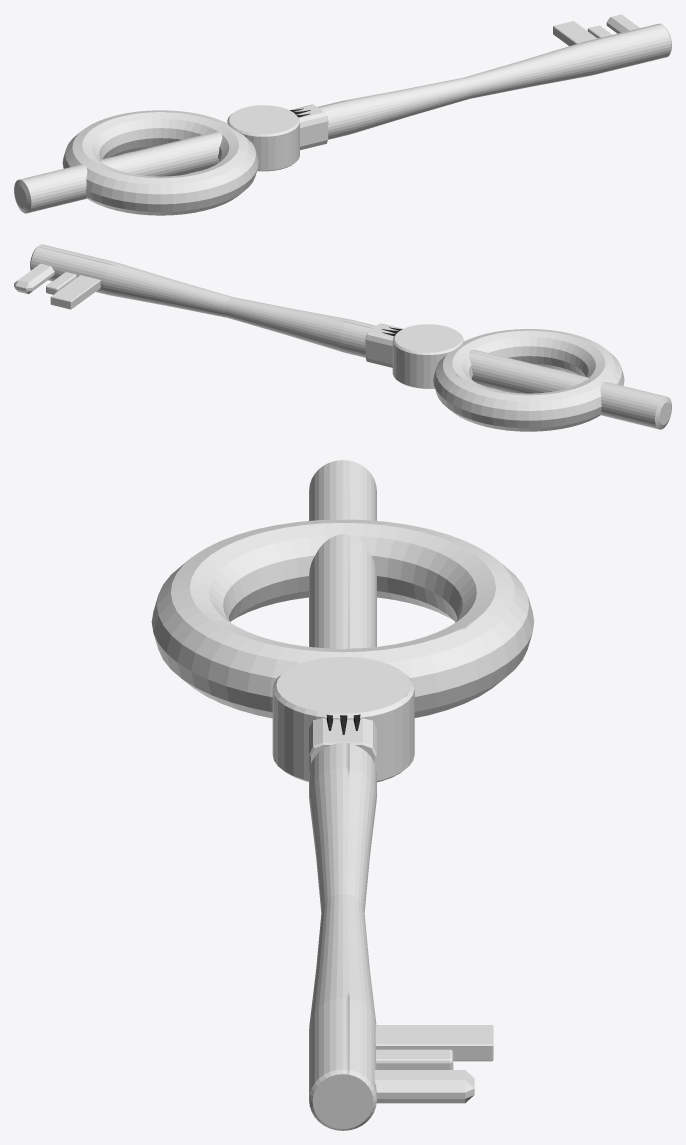
File: tombstone_key.obj
3 renders of one model, top to bottom at view 1: azimuth 30°, elevation 25°; view 2: azimuth 150°, elevation 25°; view 3: azimuth 270°, elevation 25°, orthographic. The views are drawn at different scales.
Parts seen in each view (by area): view 1: Cylinder, Torus, Cylinder.001, Cube_Cube.001, Cube.003_Cube.004, Cube.001_Cube.002; view 2: Cylinder, Torus, Cylinder.001, Cube_Cube.001, Cube.003_Cube.004, Cube.001_Cube.002, Cube.002_Cube.003; view 3: Torus, Cylinder, Cylinder.001, Cube.003_Cube.004, Cube.001_Cube.002, Cube_Cube.001, Cube.002_Cube.003.
Boxes of the visible parts, box(x1,y1,x2,y2) form: Cylinder: box(14, 23, 671, 213); Torus: box(62, 110, 258, 215); Cylinder.001: box(227, 105, 299, 171); Cube_Cube.001: box(291, 104, 328, 150); Cube.003_Cube.004: box(553, 21, 597, 45); Cube.001_Cube.002: box(606, 14, 639, 33); Cylinder: box(30, 244, 671, 429); Torus: box(433, 329, 624, 431); Cylinder.001: box(392, 324, 463, 388); Cube_Cube.001: box(365, 323, 402, 367); Cube.003_Cube.004: box(50, 275, 100, 309); Cube.001_Cube.002: box(14, 263, 54, 294); Cube.002_Cube.003: box(46, 272, 76, 294); Torus: box(151, 519, 534, 718); Cylinder: box(309, 460, 376, 1130); Cylinder.001: box(272, 657, 414, 782); Cube.003_Cube.004: box(375, 1025, 493, 1061); Cube.001_Cube.002: box(374, 1070, 474, 1103); Cube_Cube.001: box(309, 718, 376, 771); Cube.002_Cube.003: box(376, 1049, 453, 1069).
Bounding box in the file's own units: 9.47 × 0.5202 × 2.5.
